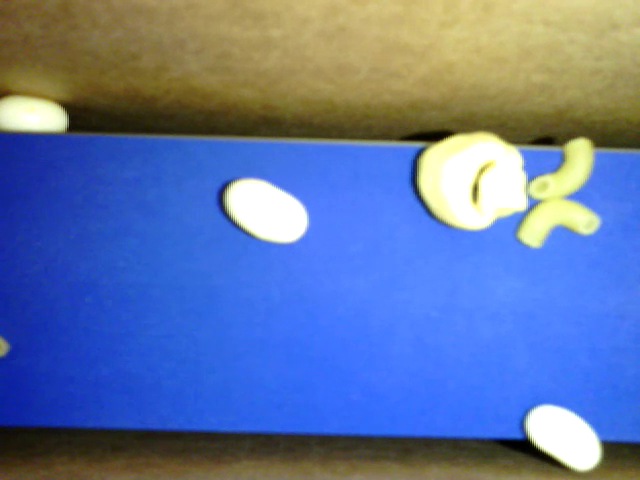elbow: (514, 198, 602, 248), (528, 137, 594, 200)
tortellini: (417, 132, 528, 231)
